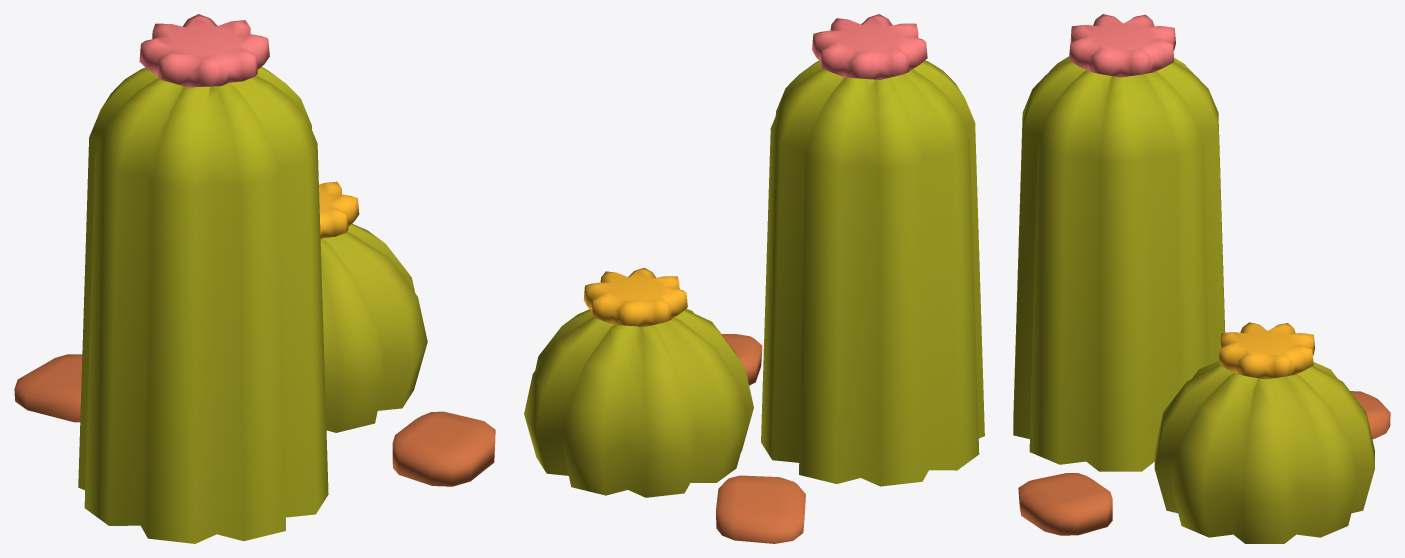
File: cactus_large.glb
The picture shows the model from 3 angles, left to right: view 1: azimuth 30°, elevation 25°; view 2: azimuth 150°, elevation 25°; view 3: azimuth 270°, elevation 25°; orthographic projection. The views are drawn at different scales.
Visible parts, largest first — view 1: cactus_large; view 2: cactus_large; view 3: cactus_large.
Boxes of the visible parts, bbox=[...] form: cactus_large: bbox=[14, 14, 495, 543]; cactus_large: bbox=[524, 14, 984, 543]; cactus_large: bbox=[1013, 14, 1390, 543].
Size of the model in its own units: 1.68 by 1.83 by 1.59.
1 material, 1 textured.
